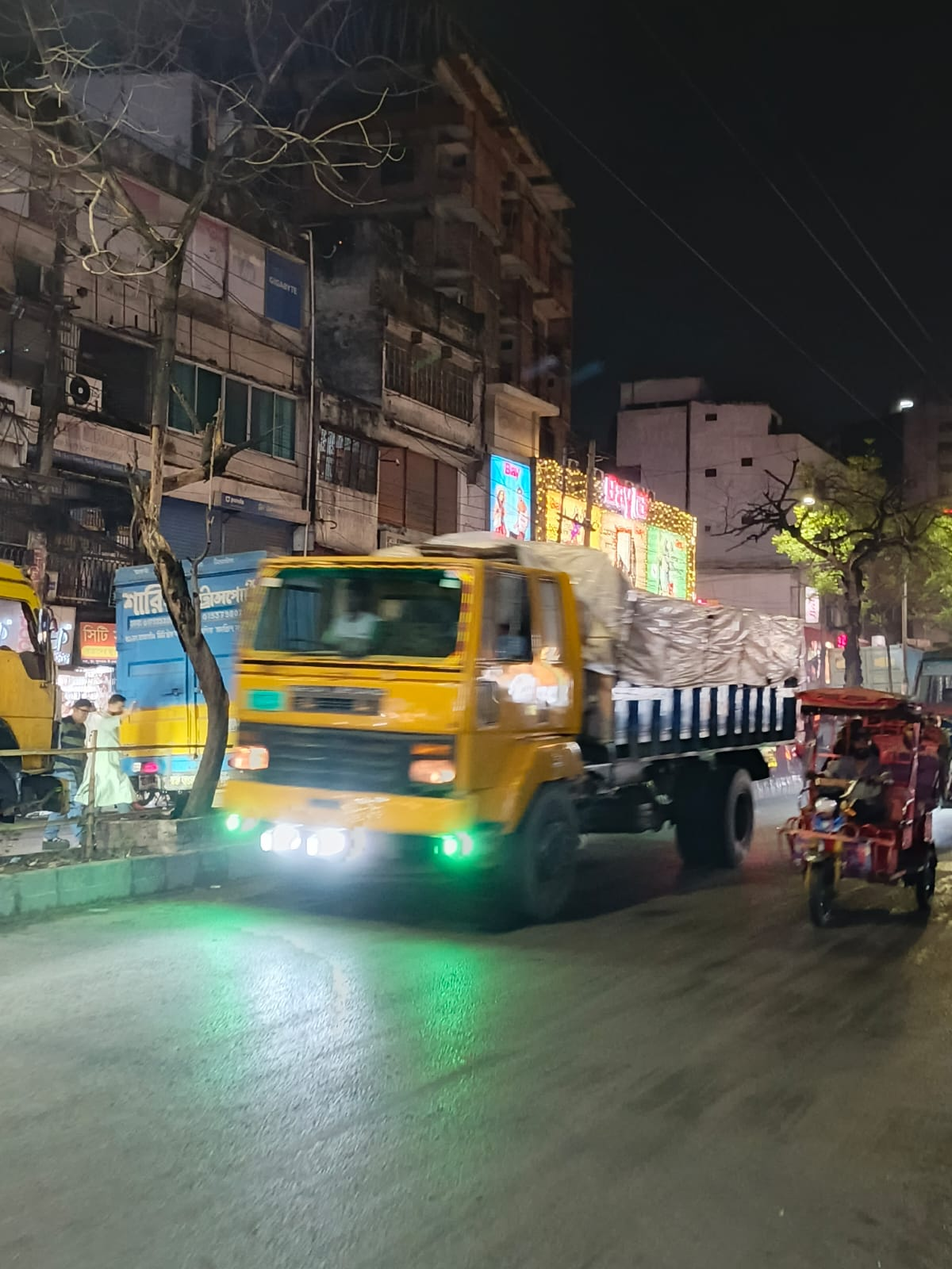Truck: (209, 479, 838, 1020), (79, 476, 408, 834), (8, 503, 207, 904)
auto-ricksaw: (780, 640, 952, 1001)
